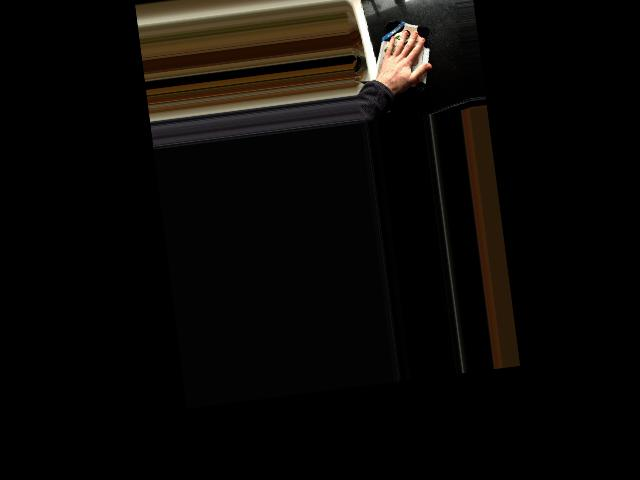cheese: (364, 14, 439, 99)
